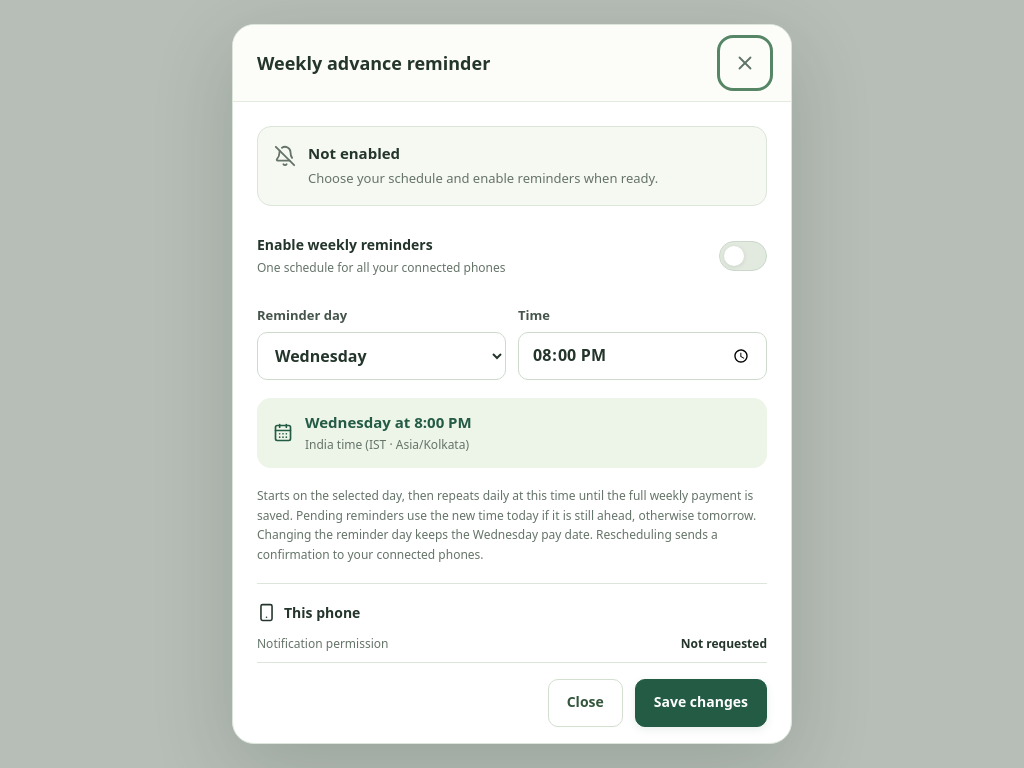
Test: weekly advance reminder settings › blocks duplicate saves and closing while a request is in progress
Step 1. Click the button "Save changes" → click(701, 703), box x1=635 y1=679 x2=767 y2=727
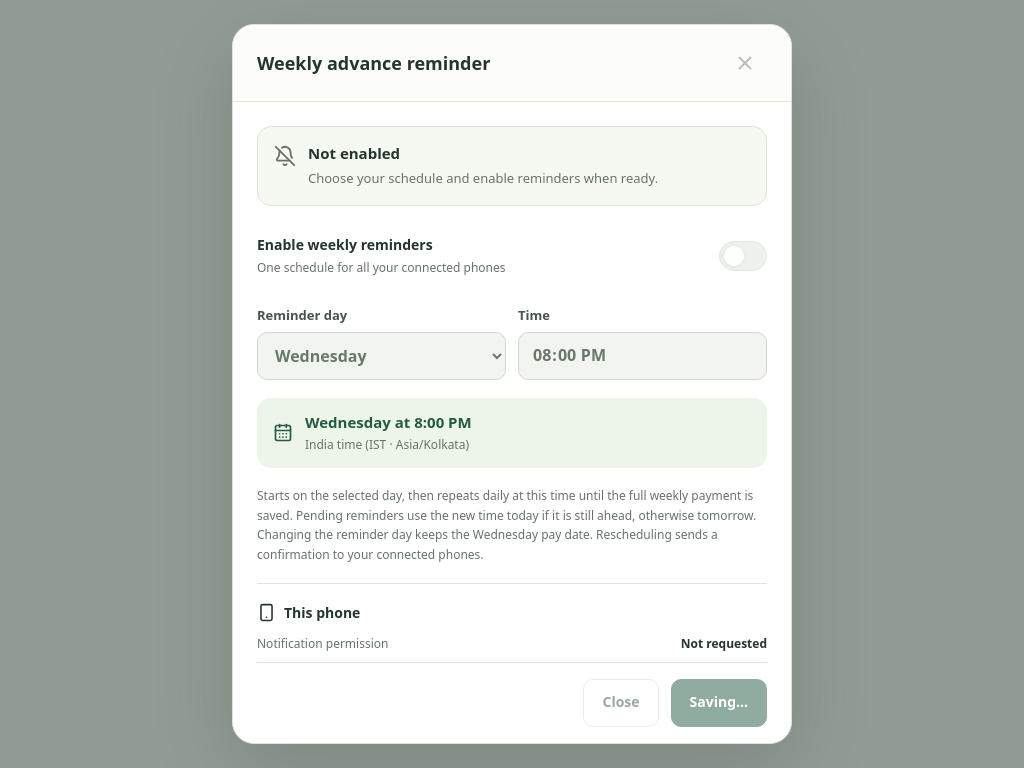
Result: the button "Saving…" is disabled
Result: the button named "Close panel" is disabled at x1=723 y1=41 x2=767 y2=85
Result: the dropdown labelled "Reminder day" is disabled at x1=257 y1=332 x2=506 y2=380
Step 2. Click the button "Saving…" → click(719, 703), box x1=671 y1=679 x2=767 y2=727
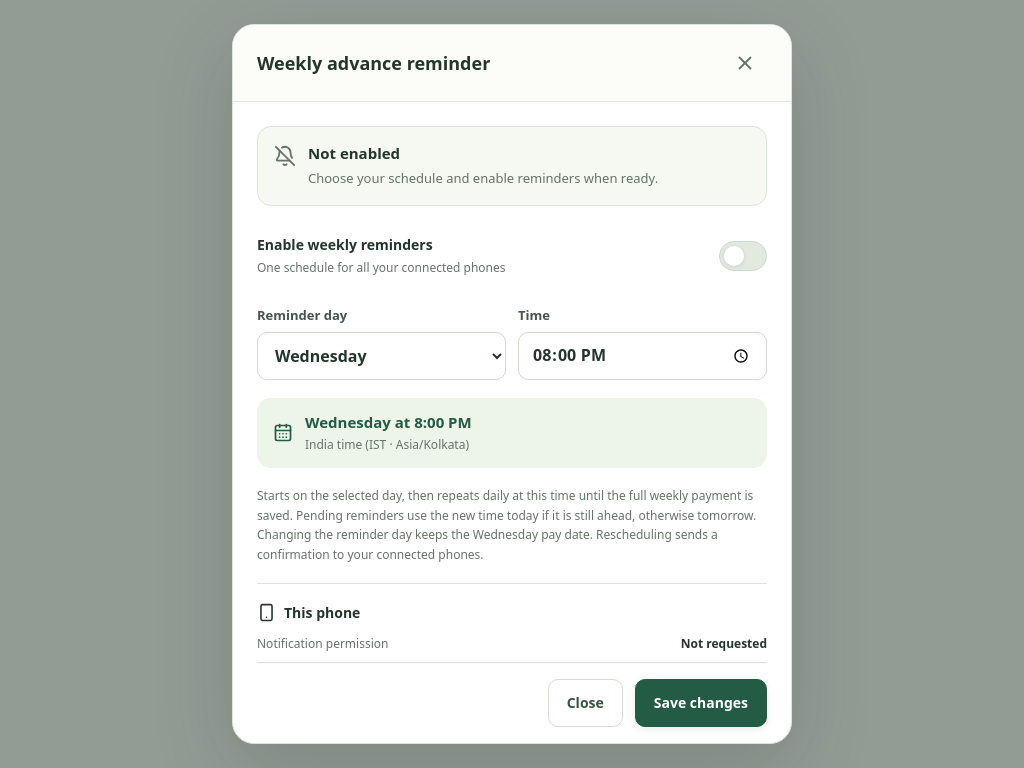
Result: the button "Save changes" is enabled at x1=635 y1=679 x2=767 y2=727
